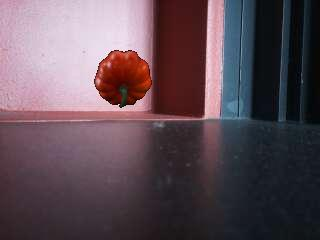Pumpkin: (93, 49, 152, 108)
